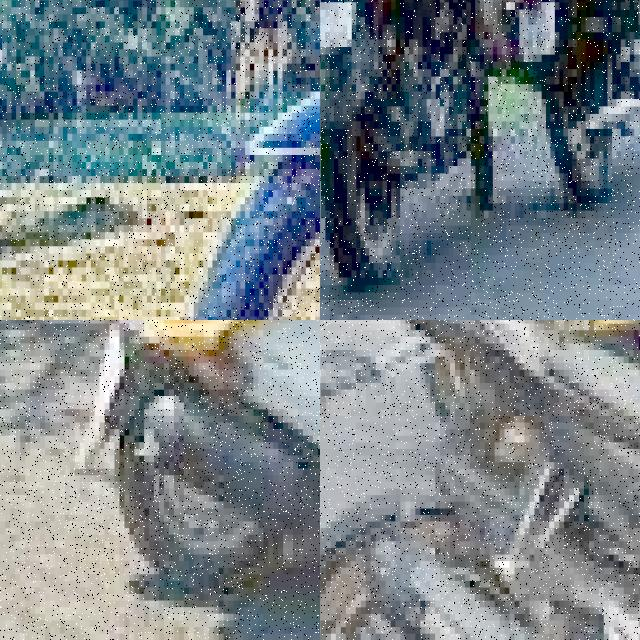bike: (320, 320, 640, 640), (109, 320, 320, 581), (320, 0, 497, 292), (165, 0, 320, 320), (506, 0, 640, 218)
